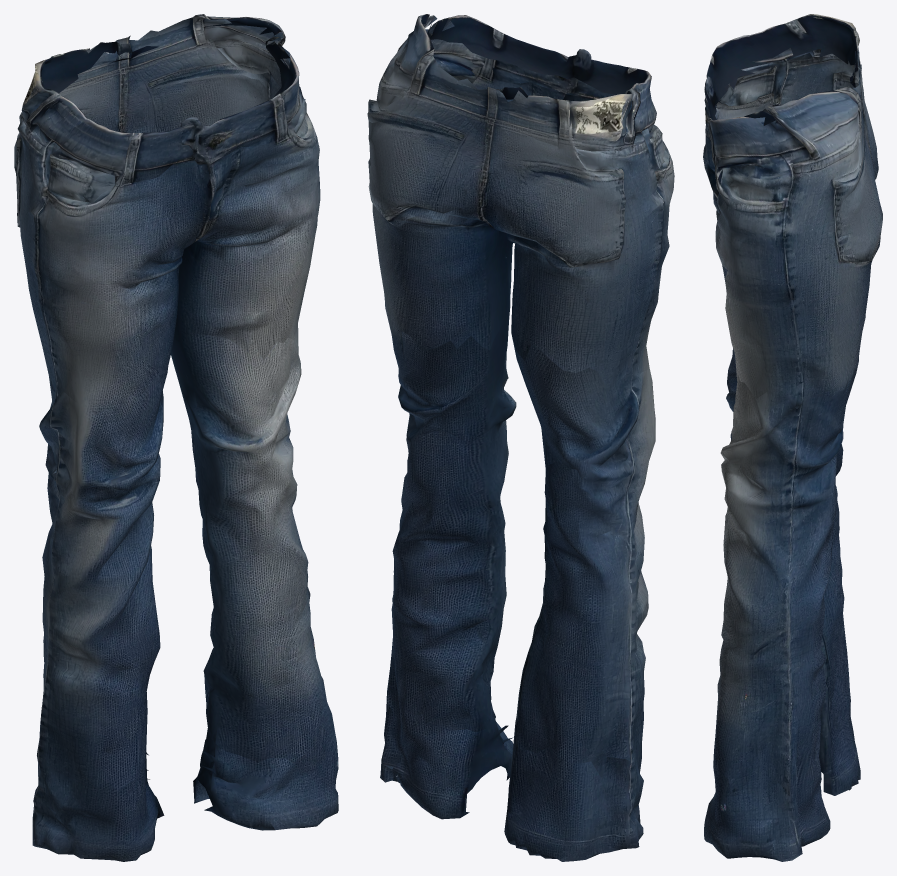
3 renders of one model, left to right at view 1: azimuth 30°, elevation 25°; view 2: azimuth 150°, elevation 25°; view 3: azimuth 270°, elevation 25°, orthographic. The views are drawn at different scales.
Visible parts, largest first — view 1: Roupa_004; view 2: Roupa_004; view 3: Roupa_004.
Boxes of the visible parts, bbox=[...] form: Roupa_004: bbox=[14, 14, 338, 861]; Roupa_004: bbox=[367, 14, 674, 861]; Roupa_004: bbox=[703, 14, 882, 861].
Size of the model in its own units: 0.3539 by 0.9415 by 0.2052.
Materials: 8 (8 with a texture image).
